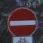No entry: (6, 5, 38, 38)
